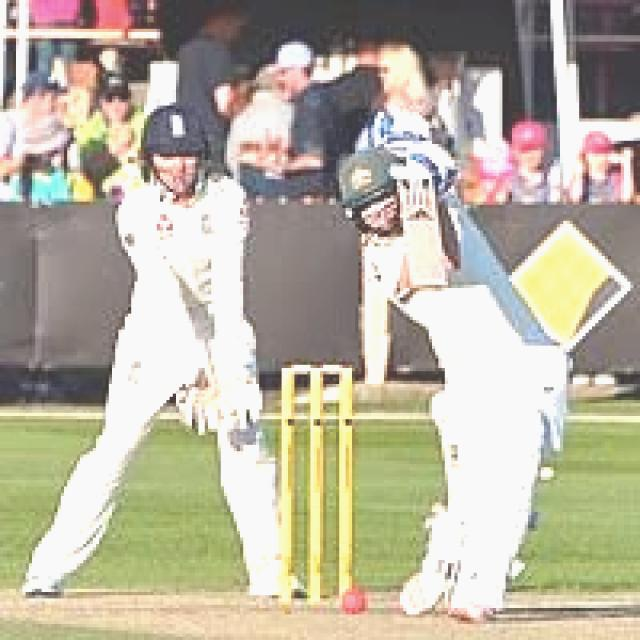bat: (394, 176, 455, 298)
toe: (398, 276, 456, 296)
